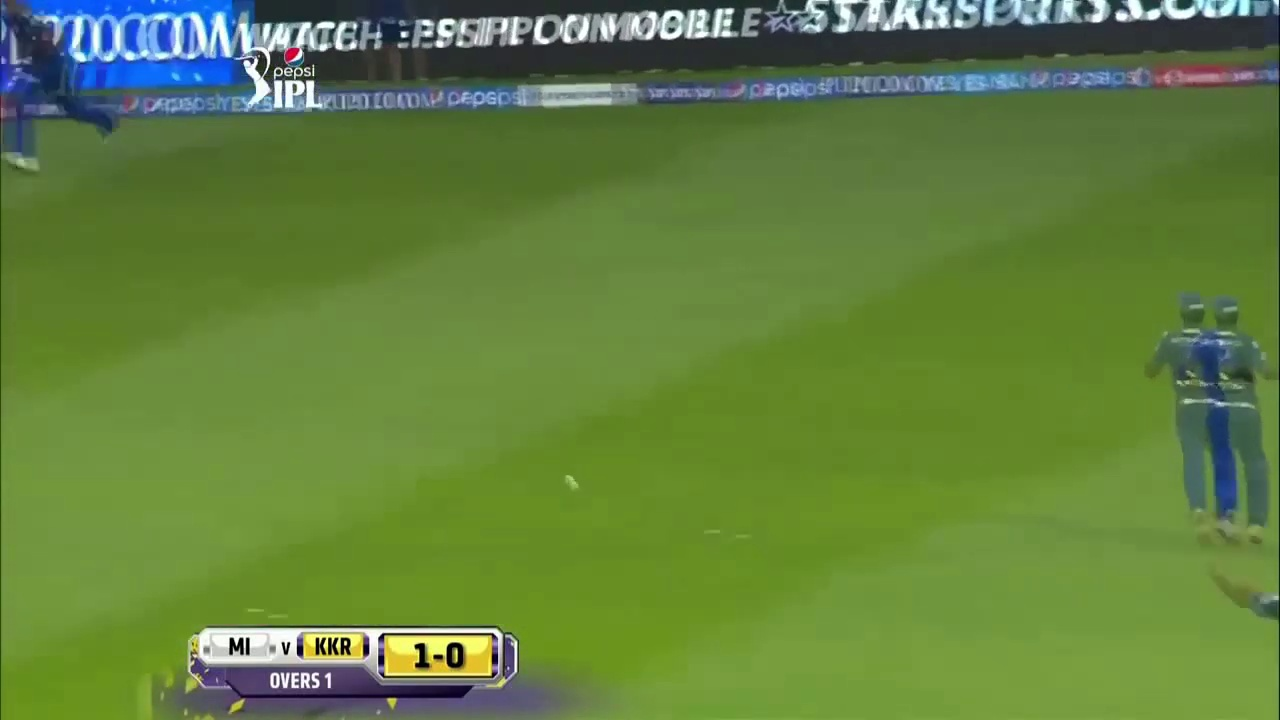field: (7, 117, 1276, 711)
